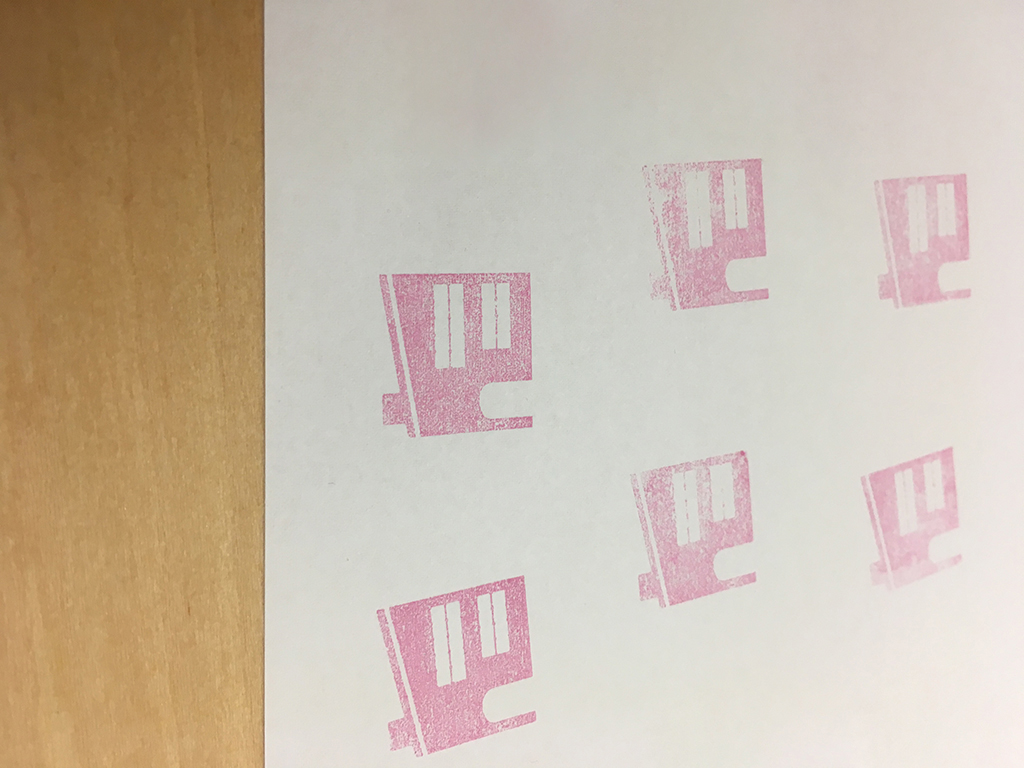house: (366, 572, 552, 765), (370, 261, 547, 442), (617, 444, 764, 618), (636, 151, 781, 320), (855, 163, 985, 323), (849, 437, 972, 600)
